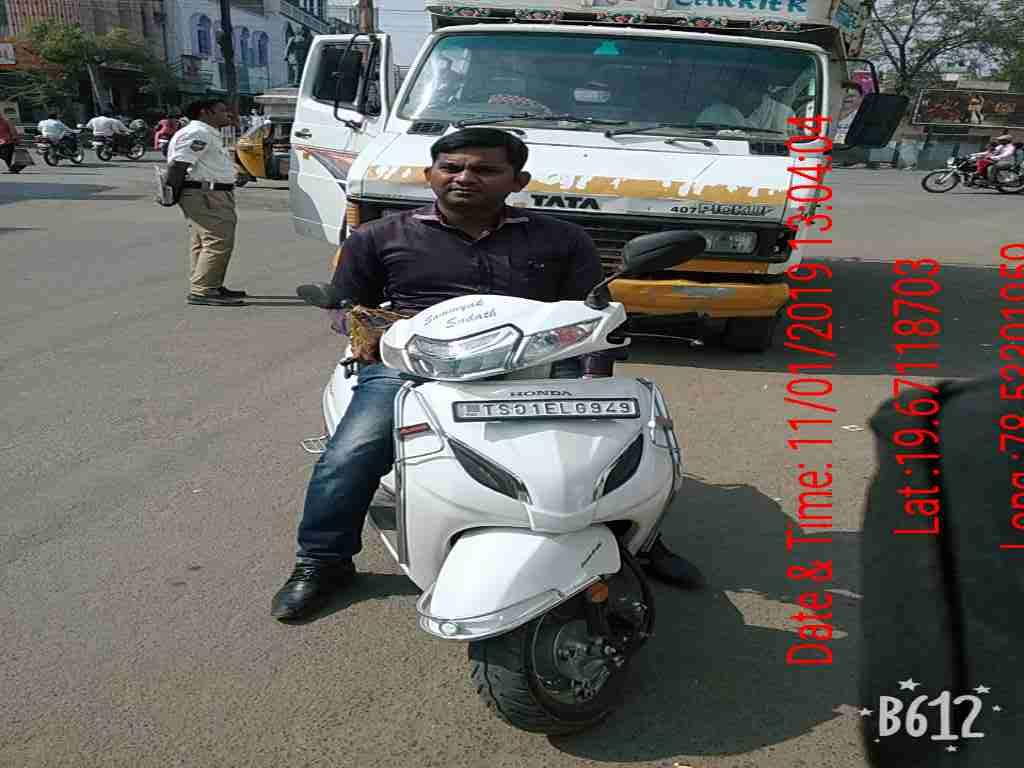plate: (444, 389, 650, 433)
